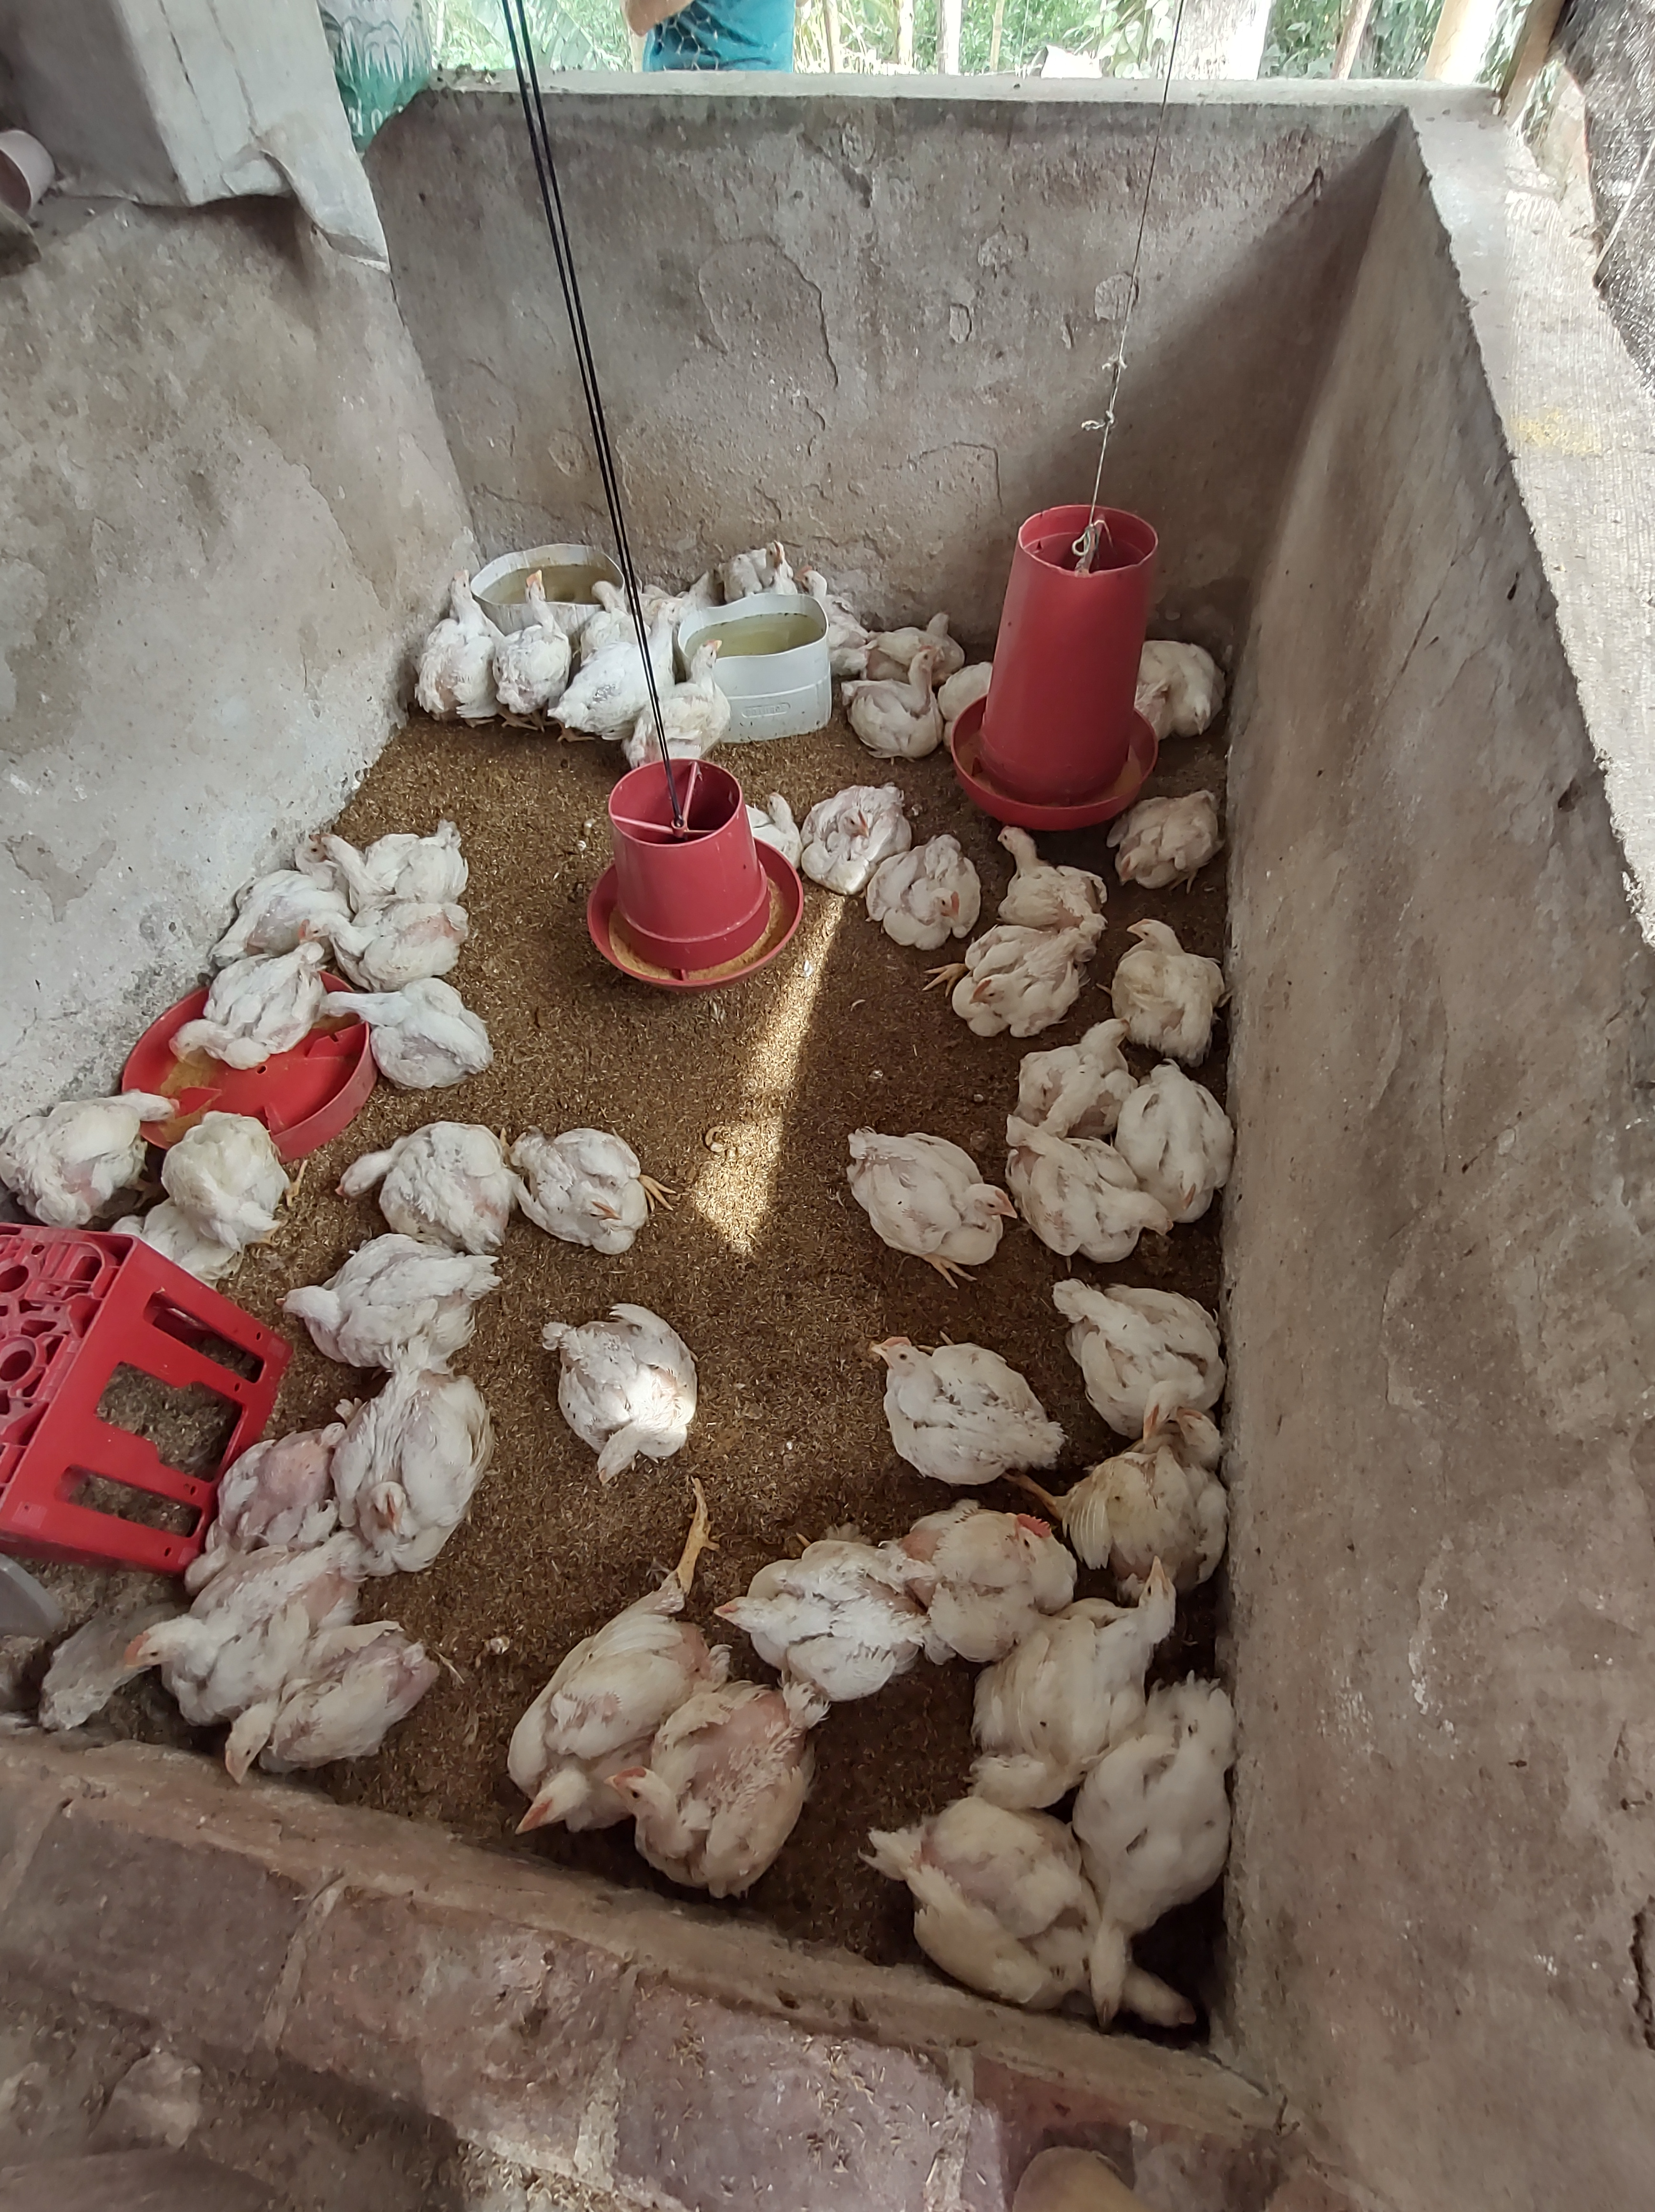Pollos: (596, 1683, 812, 1897), (1078, 1746, 1234, 2033), (711, 1539, 930, 1699), (346, 1365, 492, 1572), (874, 1334, 1071, 1482), (167, 1419, 334, 1591), (214, 1640, 409, 1784), (283, 1238, 489, 1372), (549, 1309, 702, 1485), (914, 1504, 1073, 1656), (850, 1130, 1015, 1266), (7, 1087, 176, 1217), (332, 1122, 511, 1235), (160, 1109, 287, 1268), (1055, 1273, 1179, 1435), (504, 1123, 655, 1249), (1059, 1555, 1173, 1718), (170, 946, 315, 1069), (316, 981, 495, 1076), (1114, 1405, 1227, 1553), (122, 1591, 254, 1715), (1038, 1134, 1173, 1252), (311, 814, 468, 901), (297, 903, 471, 972), (501, 1716, 596, 1842), (1130, 913, 1217, 1050), (1033, 1010, 1133, 1129), (996, 821, 1111, 916), (1116, 791, 1219, 885), (888, 836, 980, 939), (960, 934, 1053, 1029), (1168, 1064, 1226, 1217), (1146, 635, 1224, 734), (854, 642, 930, 736), (800, 567, 873, 663), (822, 784, 901, 868), (671, 638, 730, 743), (511, 562, 565, 671), (431, 565, 490, 654), (615, 595, 681, 668), (753, 783, 796, 857), (739, 534, 786, 595), (918, 605, 956, 640)
